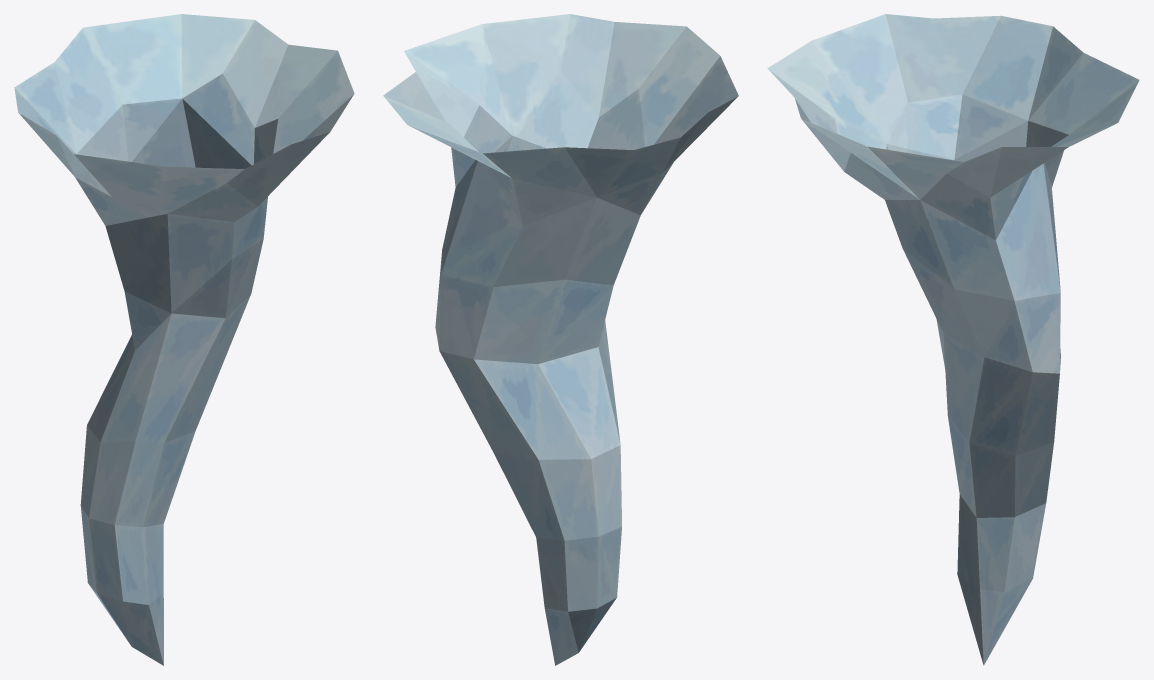
The model's file is cavepillar7.fbx.
3 renders of one model, left to right at view 1: azimuth 30°, elevation 25°; view 2: azimuth 150°, elevation 25°; view 3: azimuth 270°, elevation 25°, orthographic. The views are drawn at different scales.
Visible parts, largest first — view 1: Cube.006; view 2: Cube.006; view 3: Cube.006.
Boxes of the visible parts, x1,y1,x2,y2 form: Cube.006: [14, 14, 354, 665]; Cube.006: [383, 14, 738, 665]; Cube.006: [767, 14, 1139, 665].
Bounding box in the file's own units: 839 × 1537 × 887.
